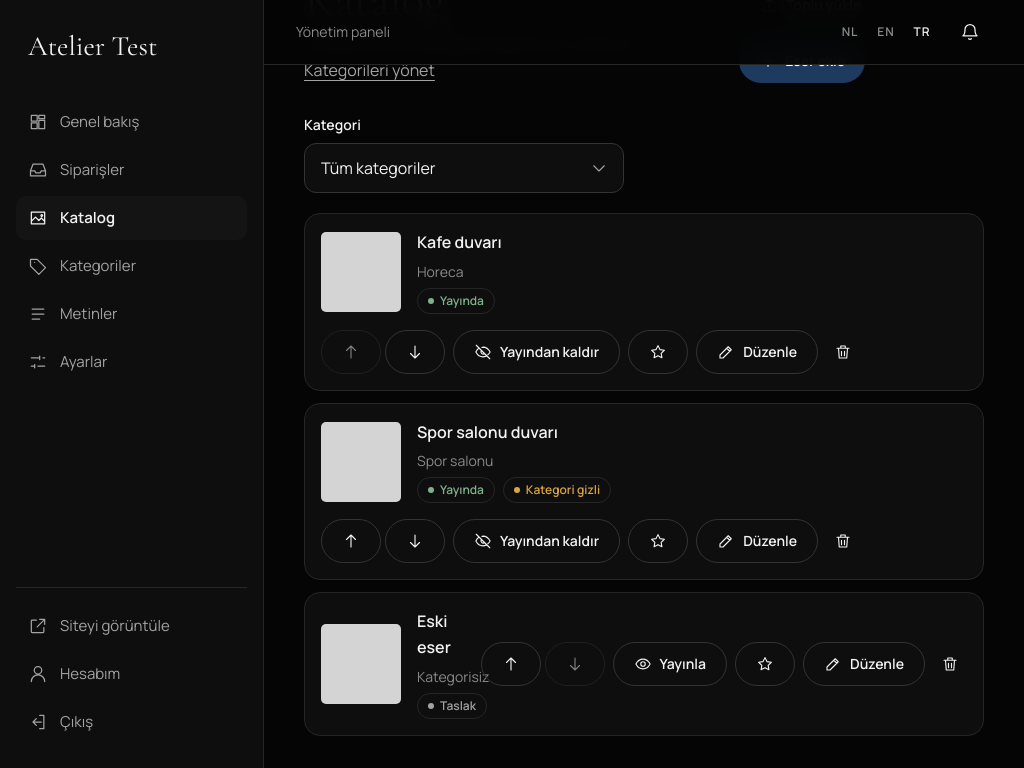
Test: catalog page › publishes a draft with one click
The image size is (1024, 768).
(page scrolled)
What coordinates should you click on to do the following:
click the button with aria-label "Yayınla: Eski eser"
I would click on:
 (670, 664)
Its box is [613,642,727,686].
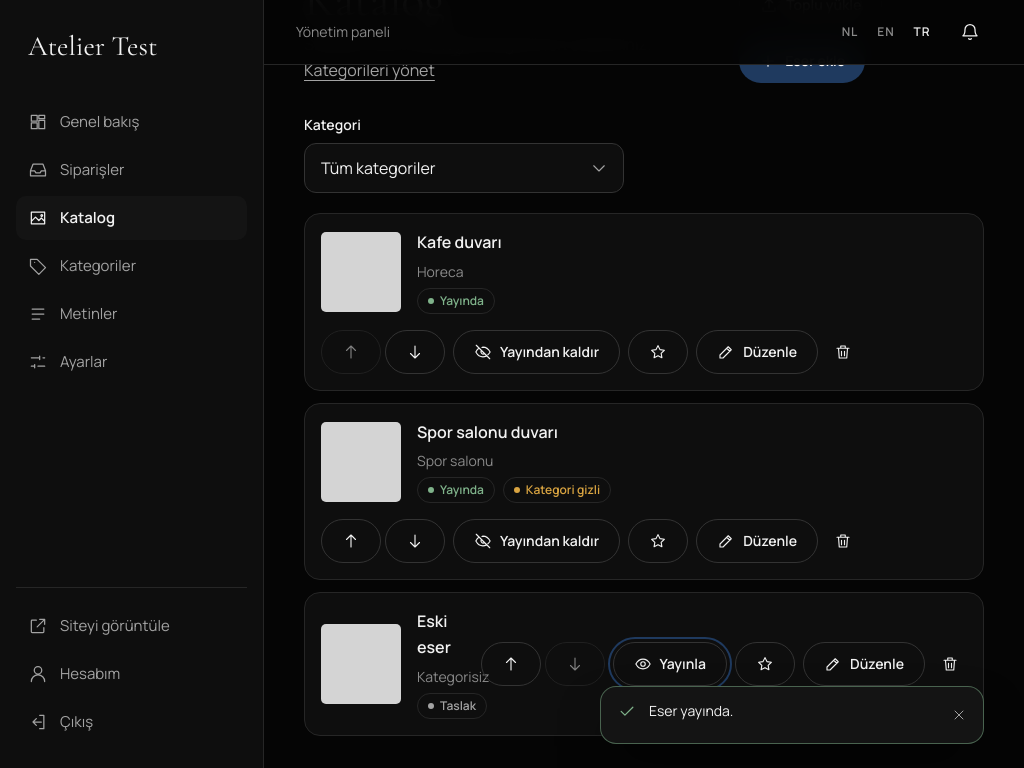
Expected: the text "Eser yayında." is shown, [649,701,733,720]
